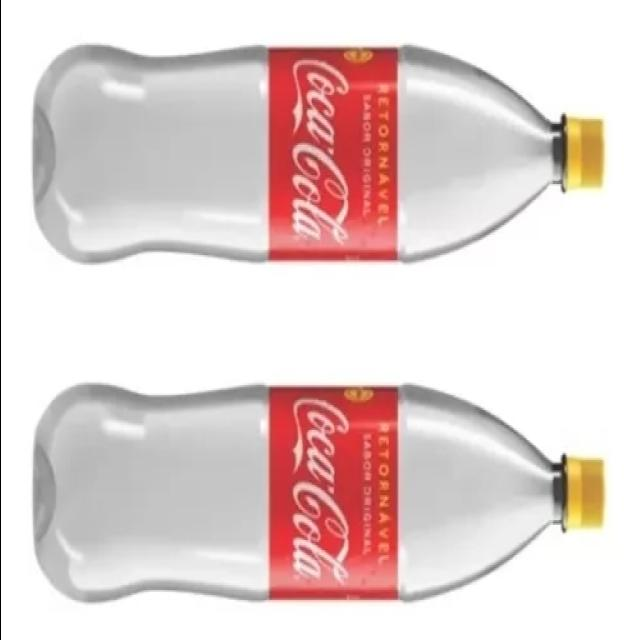bottom: (22, 23, 130, 289), (26, 371, 114, 619)
cap: (546, 94, 616, 212), (546, 433, 610, 555)
